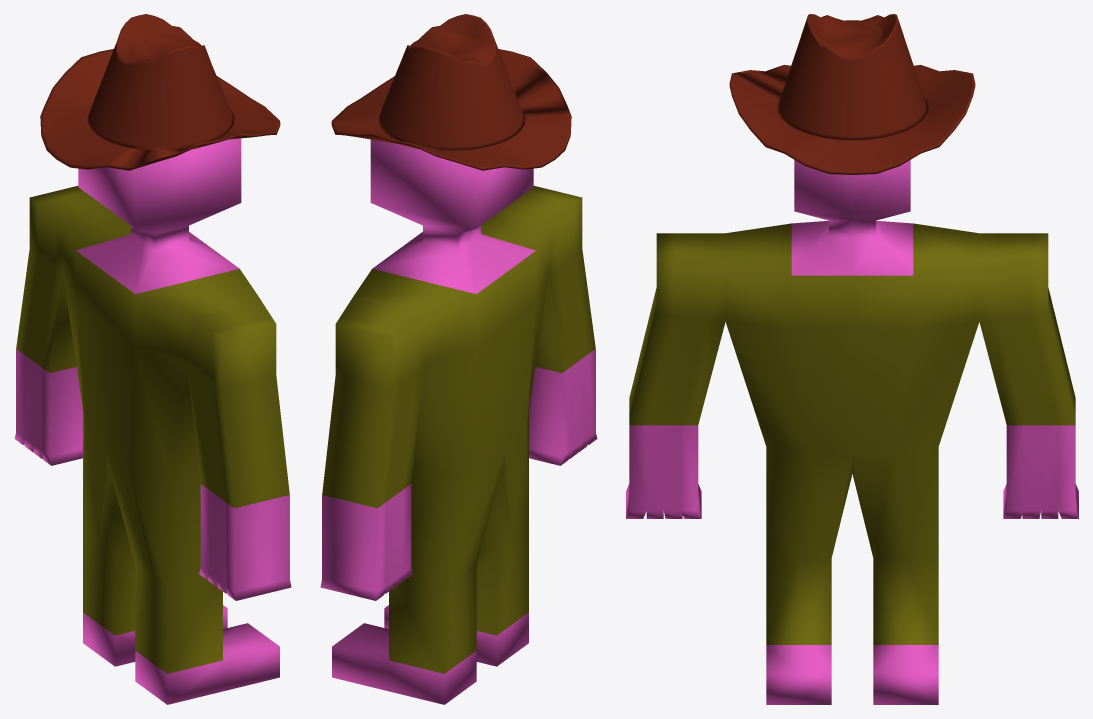
File: CowboyAttack.fbx
3 renders of one model, left to right at view 1: azimuth 30°, elevation 25°; view 2: azimuth 150°, elevation 25°; view 3: azimuth 270°, elevation 25°, orthographic. The views are drawn at different scales.
Parts seen in each view (by area): view 1: Cowboy, Circle; view 2: Cowboy, Circle; view 3: Cowboy, Circle.
Boxes of the visible parts, x1,y1,x2,y2 form: Cowboy: (14, 138, 291, 704); Circle: (40, 14, 280, 170); Cowboy: (320, 139, 597, 704); Circle: (331, 14, 571, 170); Cowboy: (626, 160, 1078, 704); Circle: (729, 14, 975, 174).
Size of the model in its own units: 0.5363 by 1.56 by 0.9878.
